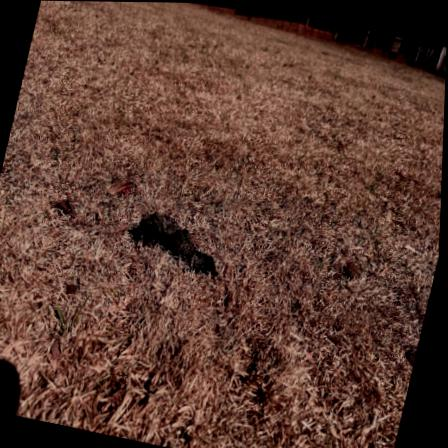dog-poop: (124, 196, 230, 274)
